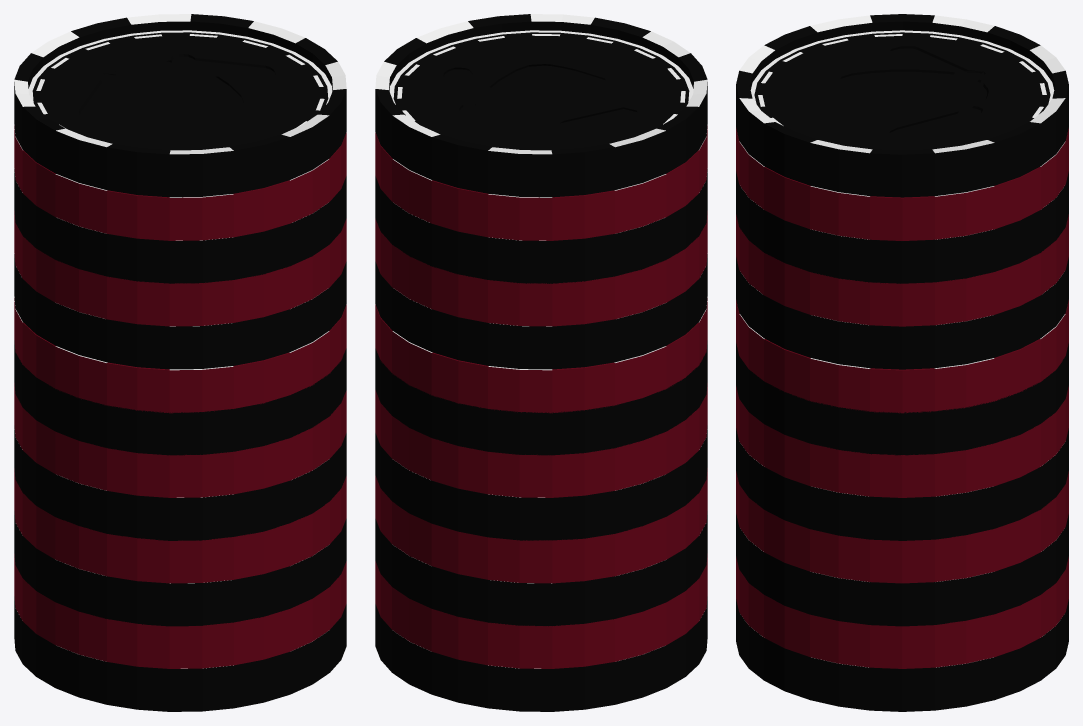
Rendered from poker chip 12 stack (plain).fbx.
The picture shows the model from 3 angles, left to right: view 1: azimuth 30°, elevation 25°; view 2: azimuth 150°, elevation 25°; view 3: azimuth 270°, elevation 25°; orthographic projection.
Parts seen in each view (by area): view 1: Cylinder.007; view 2: Cylinder.007; view 3: Cylinder.007.
Part boxes in pixels (<box>): Cylinder.007: <box>14,14,346,711</box>; Cylinder.007: <box>375,14,707,711</box>; Cylinder.007: <box>736,14,1068,711</box>.
Size of the model in its own units: 200 by 369 by 200.
